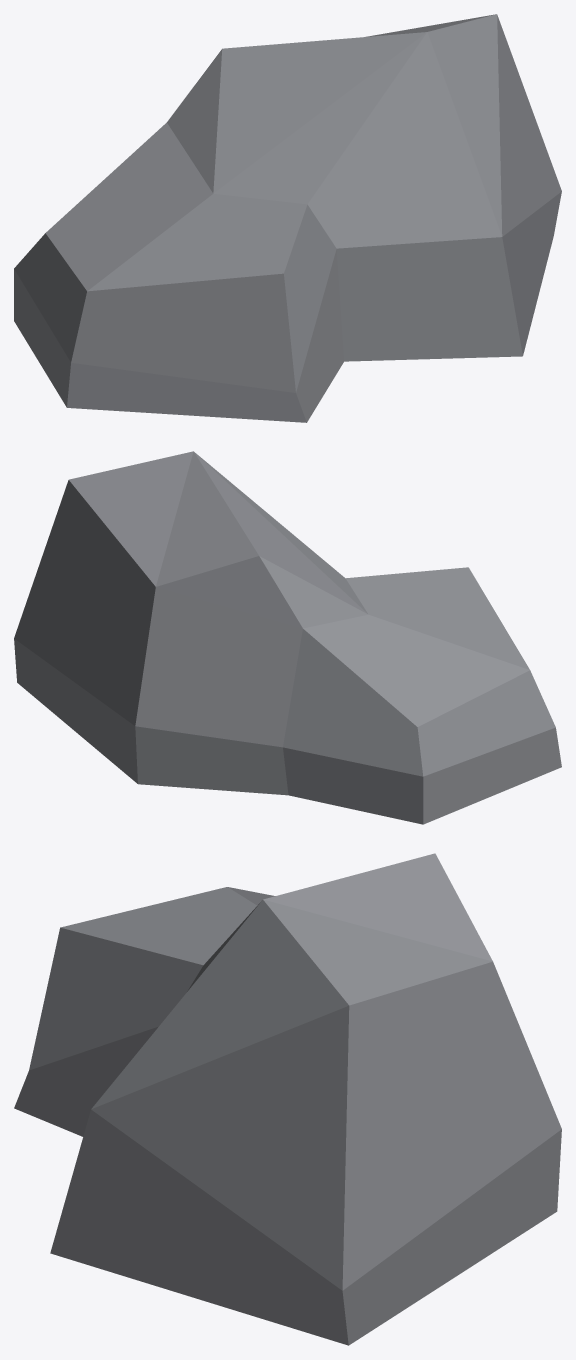
File: stone_1.obj
3 views of the same model, one above another, from view 1: azimuth 30°, elevation 25°; view 2: azimuth 150°, elevation 25°; view 3: azimuth 270°, elevation 25° (orthographic). The views are drawn at different scales.
Visible parts, largest first — view 1: stone_1_Cube.004; view 2: stone_1_Cube.004; view 3: stone_1_Cube.004.
Part boxes in pixels (x1,y1,x2,y2): stone_1_Cube.004: (14,14,561,422); stone_1_Cube.004: (14,451,561,824); stone_1_Cube.004: (14,853,561,1345).
Size of the model in its own units: 1.47 by 0.6887 by 0.9899.
